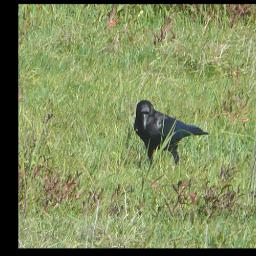Crow: (133, 100, 212, 169)
